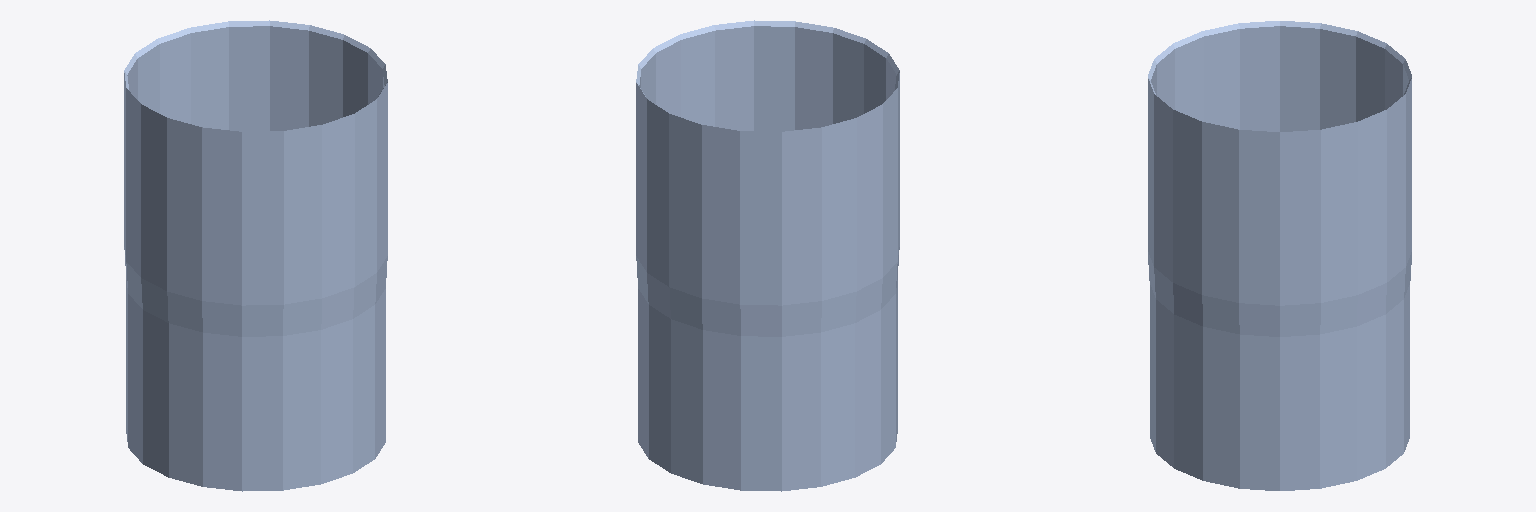
robot.urdf — model.urdf:
<?xml version="0.0" ?>
<robot name="model.urdf">
  <link name="baseLink">
    <contact>
      <friction_anchor/>
      <lateral_friction value="0.3"/>
      <rolling_friction value="0.0"/>
      <contact_cfm value="0.0"/>
      <contact_erp value="1.0"/>
    </contact>
    <inertial>
      <origin rpy="0 0 0" xyz="0 0 0"/>
      <mass value="0.1"/>
      <inertia ixx="3.e-04" ixy="0" ixz="0" iyy="1.6e-04" iyz="0" izz="3.e-04"/>
    </inertial>
    <visual>
      <geometry>
        <mesh filename="textured.dae" scale="1 1 1"/>
      </geometry>
      <material name="blue">
        <color rgba="0.78 0.85 0.97 1."/>
      </material>
    </visual>
    <collision>
      <geometry>
    	 	<mesh filename="textured.dae" scale="1 1 1"/>
      </geometry>
    </collision>
  </link>
</robot>

--- Facts derived from the render (not from the file) ---
Views: 3 orthographic renders of the robot side by side, from view 1: azimuth 30°, elevation 25°; view 2: azimuth 150°, elevation 25°; view 3: azimuth 270°, elevation 25°.
Robot: model.urdf — 1 links, 0 joints (none); root link baseLink; default pose: all joints at 0.
Links seen in each view (by area): view 1: baseLink; view 2: baseLink; view 3: baseLink.
Boxes of the visible links, x1=… form: baseLink: x1=124, y1=20, x2=387, y2=491; baseLink: x1=636, y1=20, x2=899, y2=491; baseLink: x1=1148, y1=21, x2=1411, y2=490.
Bounding box of the posed robot: 0.1 × 0.1 × 0.15 m (x, y, z).
Meshes: 1 distinct files referenced, 1 mesh visuals loaded (1 Collada DAE).